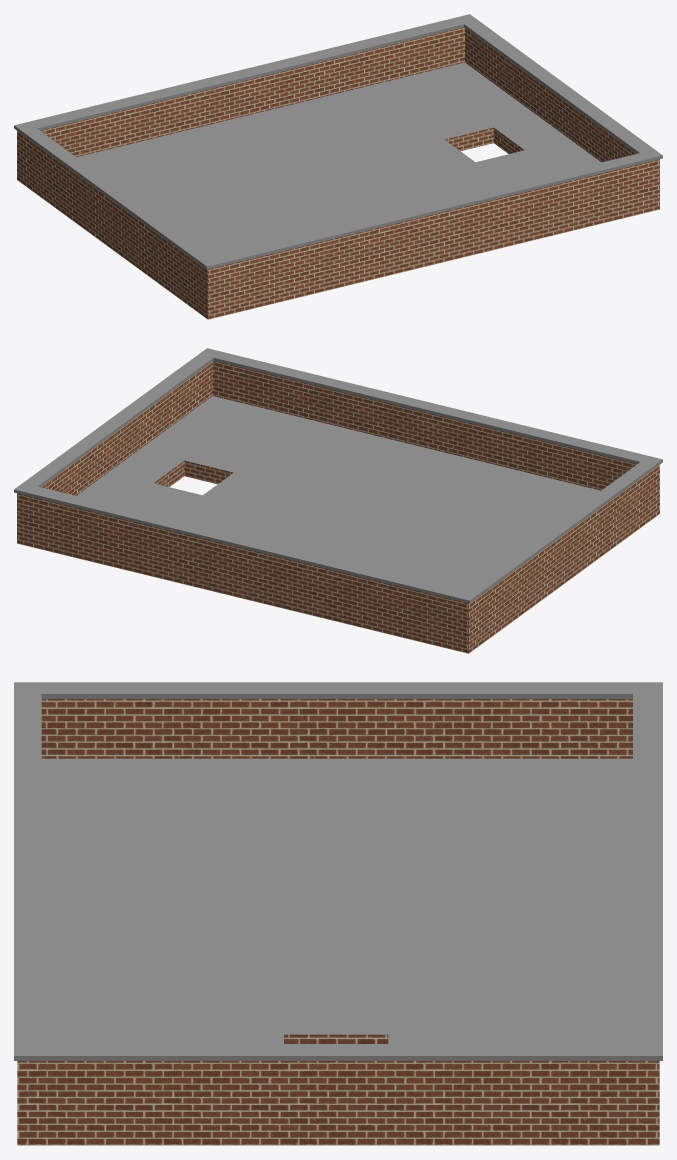
Rendered from BUILDING_roofTop_01.FBX.
3 views of the same model, one above another, from view 1: azimuth 30°, elevation 25°; view 2: azimuth 150°, elevation 25°; view 3: azimuth 270°, elevation 25° (orthographic). The views are drawn at different scales.
Visible parts, largest first — view 1: BUILDING_roofTop_01; view 2: BUILDING_roofTop_01; view 3: BUILDING_roofTop_01.
Part boxes in pixels (x1,y1,x2,y2): BUILDING_roofTop_01: (14,14,662,319); BUILDING_roofTop_01: (14,348,662,653); BUILDING_roofTop_01: (14,682,662,1145).
Bounding box in the file's own units: 1934 × 223 × 1419.
2 materials, 1 textured.
